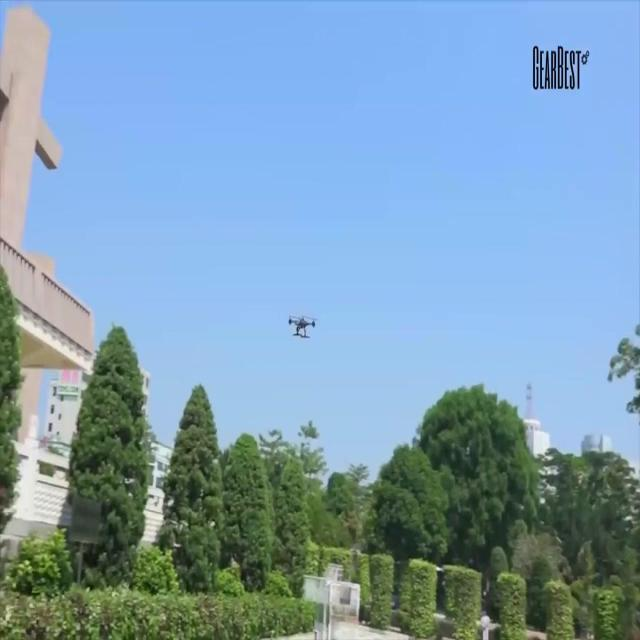drone: (288, 314, 318, 340)
